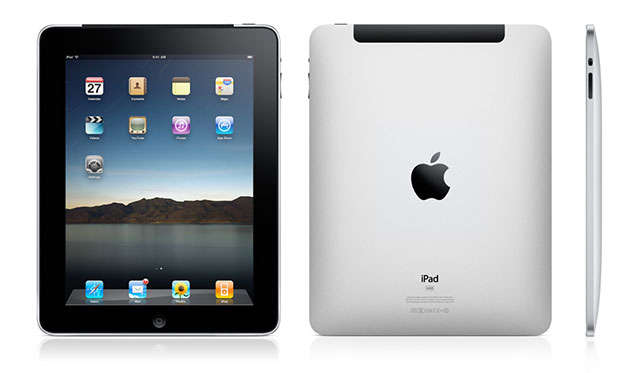apple: (400, 142, 457, 212)
